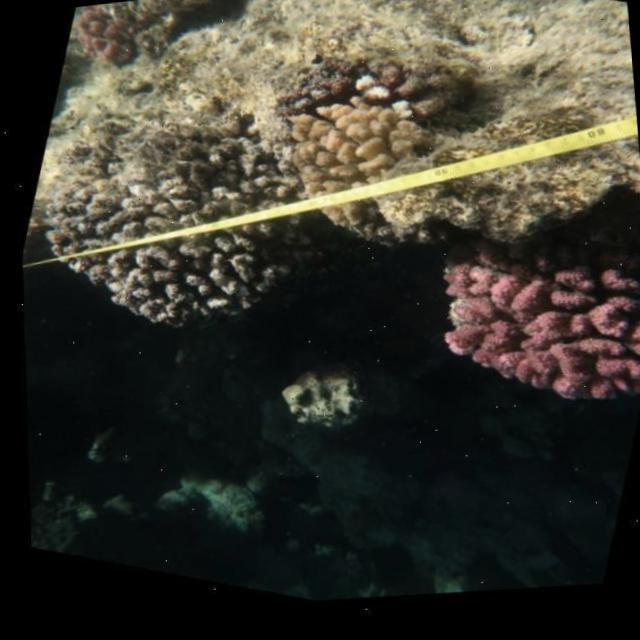Healthy Coral: (403, 202, 640, 445), (68, 6, 150, 87)
